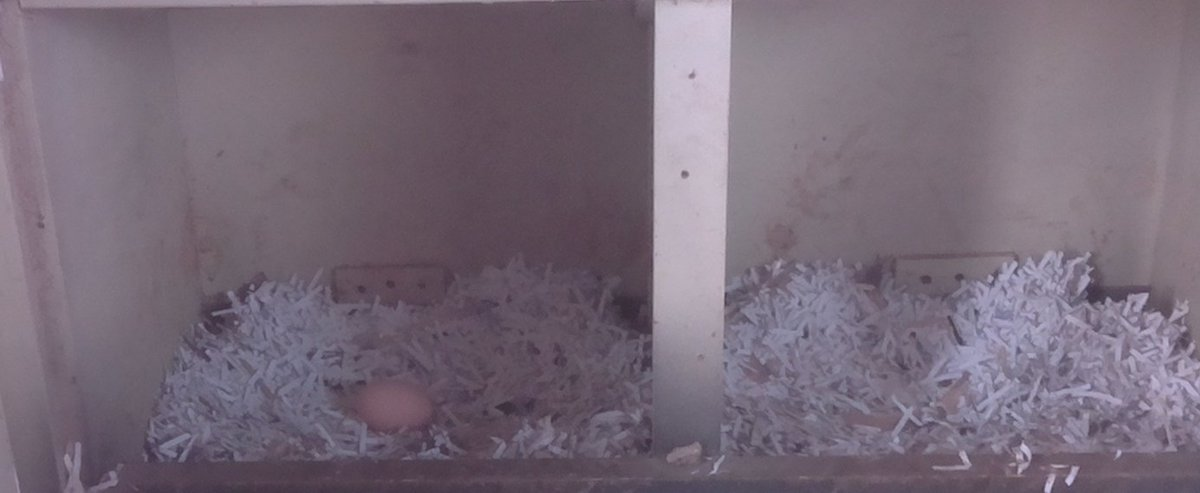egg: (350, 377, 443, 435)
